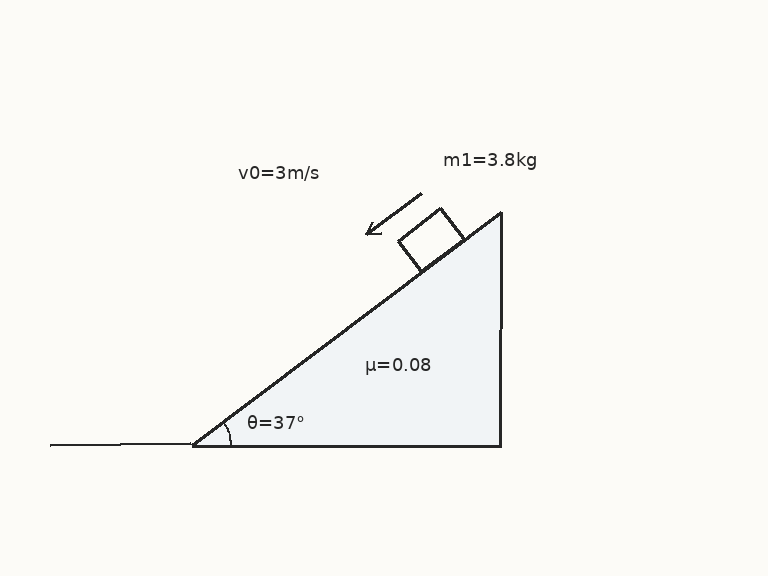block: (396, 206, 466, 274)
ramp: (189, 209, 503, 447)
